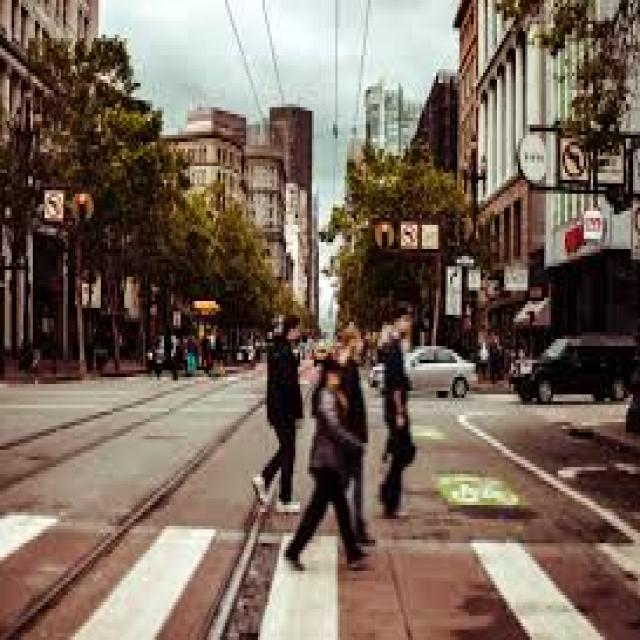Passenger Car: (420, 342, 480, 398)
Pedestrians: (286, 363, 368, 568), (373, 301, 417, 512), (253, 315, 298, 515)
Sport-Utility-Vehicle: (508, 325, 640, 408)
